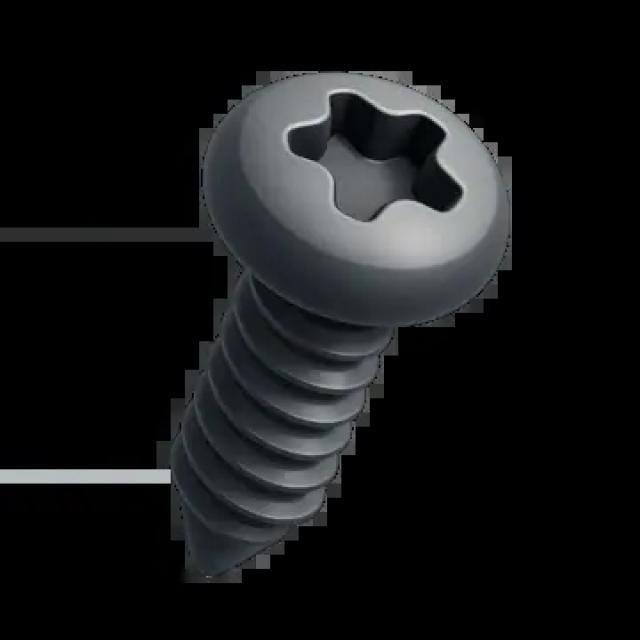torx: (197, 67, 514, 327)
